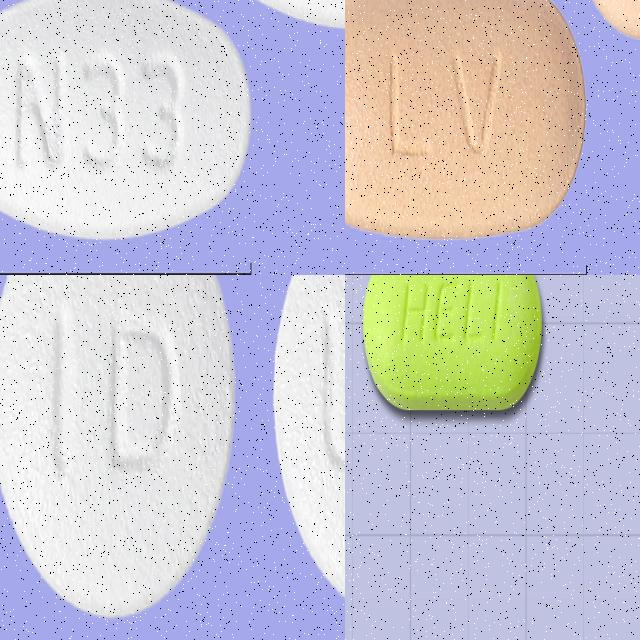Helico: (363, 275, 543, 412)
Levofexin - 250mg: (0, 275, 233, 619), (275, 275, 345, 621)
Lexacin: (345, 0, 584, 236)
Moxiclen Tab: (0, 0, 249, 239)
